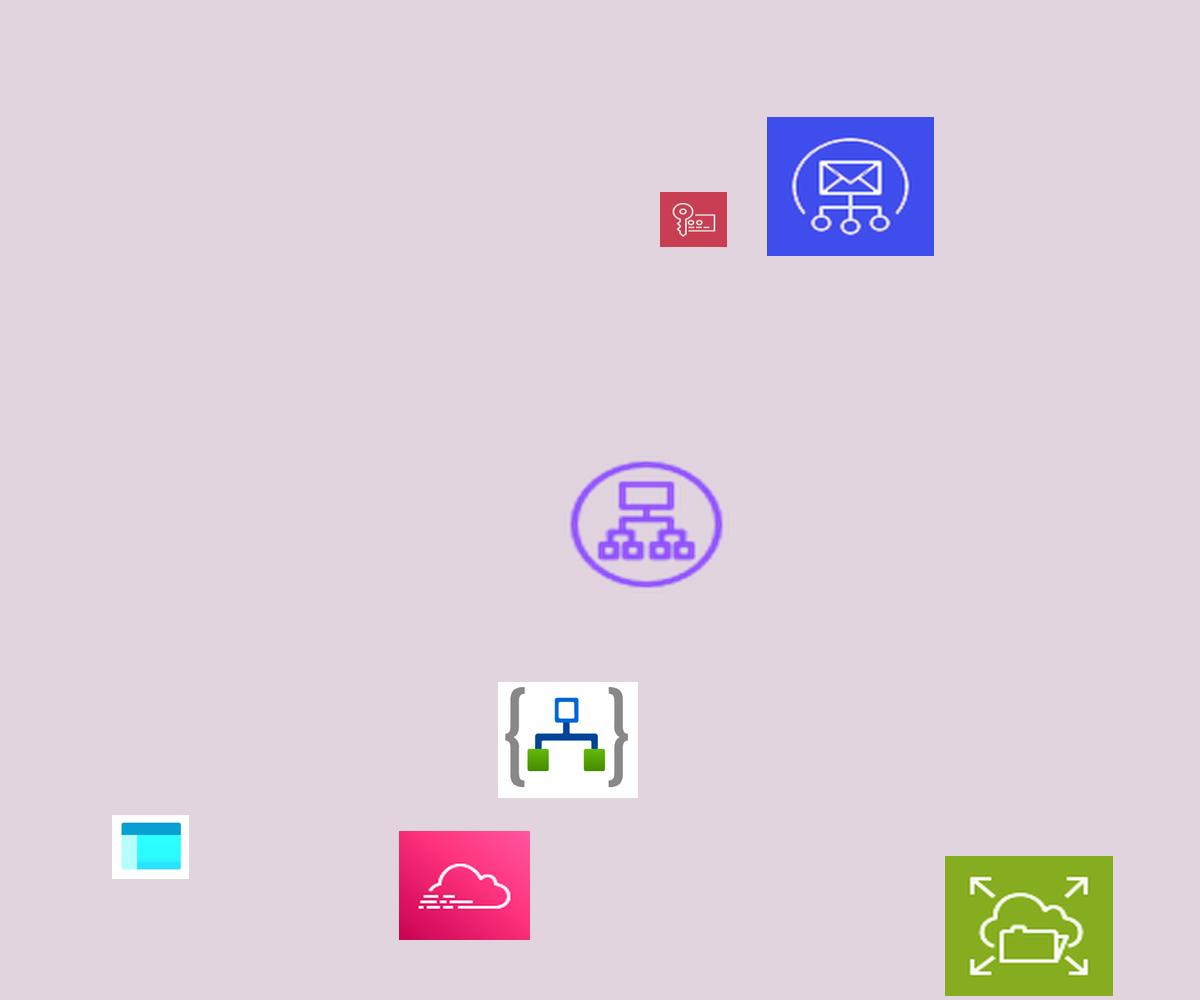AWS-CloudTrail: (399, 831, 530, 940)
AWS-EFS: (945, 856, 1113, 996)
AWS-Key-Management-Service: (660, 192, 727, 247)
AWS-Res_Elastic-Load-Balancing_Application-Load-Balancer: (564, 456, 729, 593)
AWS-Simple-Email-Service: (767, 117, 934, 256)
Azure_integration-204-Logic-Apps: (498, 682, 638, 798)
Azure_management-portal: (112, 815, 189, 879)
